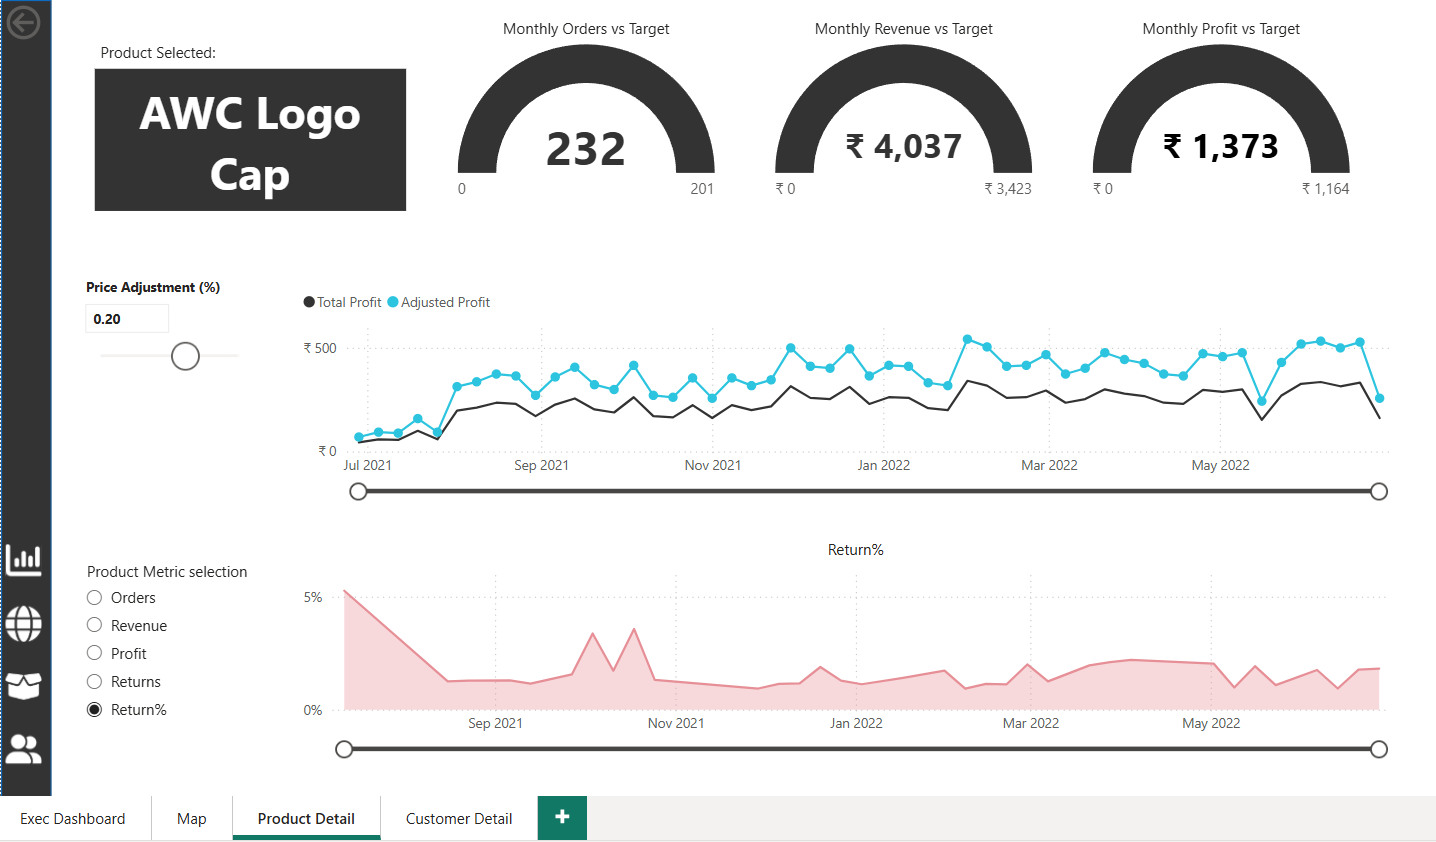

The page's visual inventory and layout, read from the dashboard file:
{"tool":"powerbi","page":{"name":"Product Detail","canvas":[1280,720],"ordinal":2},"visuals":[{"type":"shape","box":[0,0,45,720.2],"z":0},{"type":"gauge","title":"Monthly Orders vs Target","fields":{"Y":["Measure Table.Total orders"],"MaxValue":["Measure Table.Prev month orders"]},"box":[401.1,15.9,238.5,172.4],"z":1000},{"type":"gauge","title":"Monthly Revenue vs Target","fields":{"Y":["Measure Table.Total Revenue"],"MaxValue":["Measure Table.Prev month revenue"]},"box":[683.6,15.9,238.5,172.4],"z":2000},{"type":"gauge","title":"Monthly Profit vs Target","fields":{"Y":["Measure Table.Total Profit"],"MaxValue":["Measure Table.Prev month profit"]},"box":[966,15.9,238.5,172.4],"z":3000},{"type":"lineChart","title":"Profit Trending","fields":{"Category":["Calendar Lookup.Date Hierarchy.Start of Year","Calendar Lookup.Date Hierarchy.Start of Month","Calendar Lookup.Date Hierarchy.Start of Week"],"Y":["Measure Table.Total Profit","Measure Table.Adjusted Profit"]},"box":[262.8,249,993.3,198.7],"z":4000},{"type":"areaChart","fields":{"Y":["Measure Table.Return Rate"],"Category":["Calendar Lookup.Start of Week"]},"box":[262.9,479.4,992.9,198.1],"z":5000},{"type":"actionButton","box":[0,0,100,40],"z":6000},{"type":"card","fields":{"Values":["Min(Product Lookup.ProductName)"]},"box":[83.3,61.1,276.7,126.7],"z":7000},{"type":"textbox","box":[83.2,31.8,129.6,29.3],"z":8000},{"type":"actionButton","box":[0,478.1,45.2,40.4],"z":9000},{"type":"actionButton","box":[0,534,45.2,40.4],"z":10000},{"type":"actionButton","box":[0,589.8,45.2,40.4],"z":11000},{"type":"actionButton","box":[0,645.7,45.2,40.4],"z":12000},{"type":"slicer","fields":{"Values":["Price Adjustment (%).Price Adjustment (%)"]},"box":[62.4,242.1,171.2,118.6],"z":13000},{"type":"slicer","fields":{"Values":["Product Metric selection.Product Metric selection"]},"box":[62.9,492.9,186.1,173.5],"z":14000}]}

Visuals, with their boxes on the page's 1280x720 design canvas (x1, y1, x2, y2). These are canvas units, not pixel positions in the 1436x842 screenshot, which may show the page scaled, cropped or inside an application window:
shape: select_region(0, 0, 45, 720)
"Monthly Orders vs Target" gauge: select_region(401, 16, 640, 188)
"Monthly Revenue vs Target" gauge: select_region(684, 16, 922, 188)
"Monthly Profit vs Target" gauge: select_region(966, 16, 1204, 188)
"Profit Trending" lineChart: select_region(263, 249, 1256, 448)
areaChart - Measure Table.Return Rate x Calendar Lookup.Start of Week: select_region(263, 479, 1256, 678)
actionButton: select_region(0, 0, 100, 40)
card - Min(Product Lookup.ProductName): select_region(83, 61, 360, 188)
textbox: select_region(83, 32, 213, 61)
actionButton: select_region(0, 478, 45, 518)
actionButton: select_region(0, 534, 45, 574)
actionButton: select_region(0, 590, 45, 630)
actionButton: select_region(0, 646, 45, 686)
slicer - Price Adjustment (%).Price Adjustment (%): select_region(62, 242, 234, 361)
slicer - Product Metric selection.Product Metric selection: select_region(63, 493, 249, 666)
